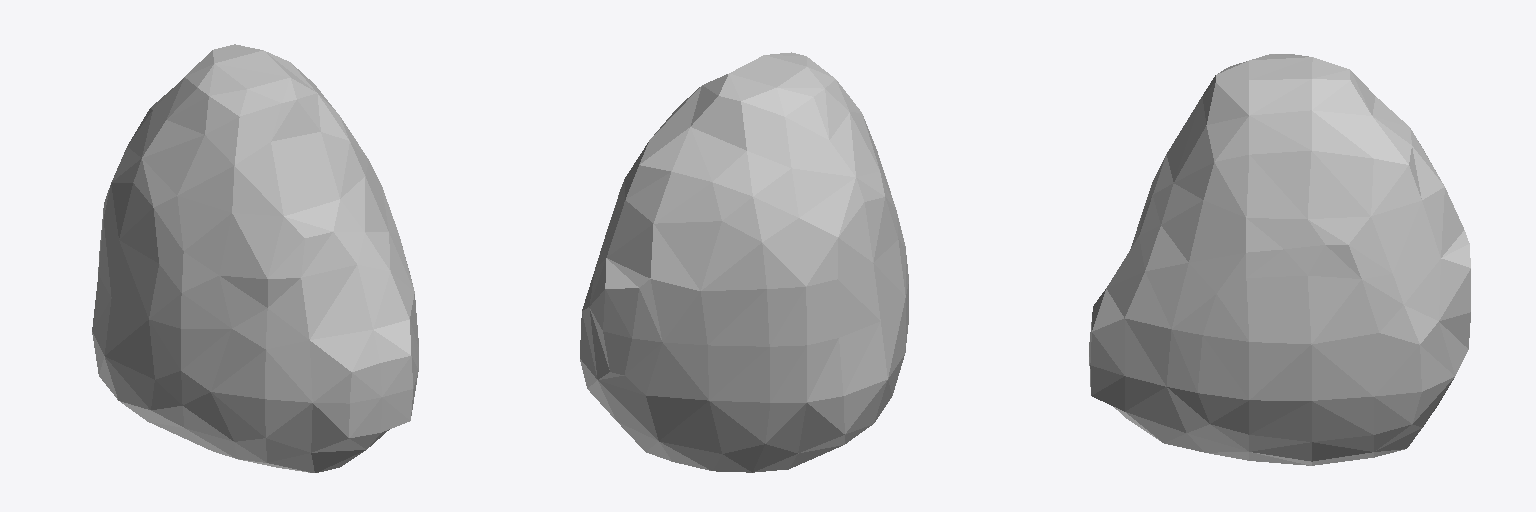
Rendered from test-rock2.obj.
3 views of the same model, side by side, from view 1: azimuth 30°, elevation 25°; view 2: azimuth 150°, elevation 25°; view 3: azimuth 270°, elevation 25° (orthographic).
Parts seen in each view (by area): view 1: Rock2; view 2: Rock2; view 3: Rock2.
Part boxes in pixels (bbox=[...]): Rock2: bbox=[92, 44, 418, 472]; Rock2: bbox=[580, 52, 908, 472]; Rock2: bbox=[1089, 54, 1470, 465].
Bounding box in the file's own units: 2.37 × 3.14 × 2.89.